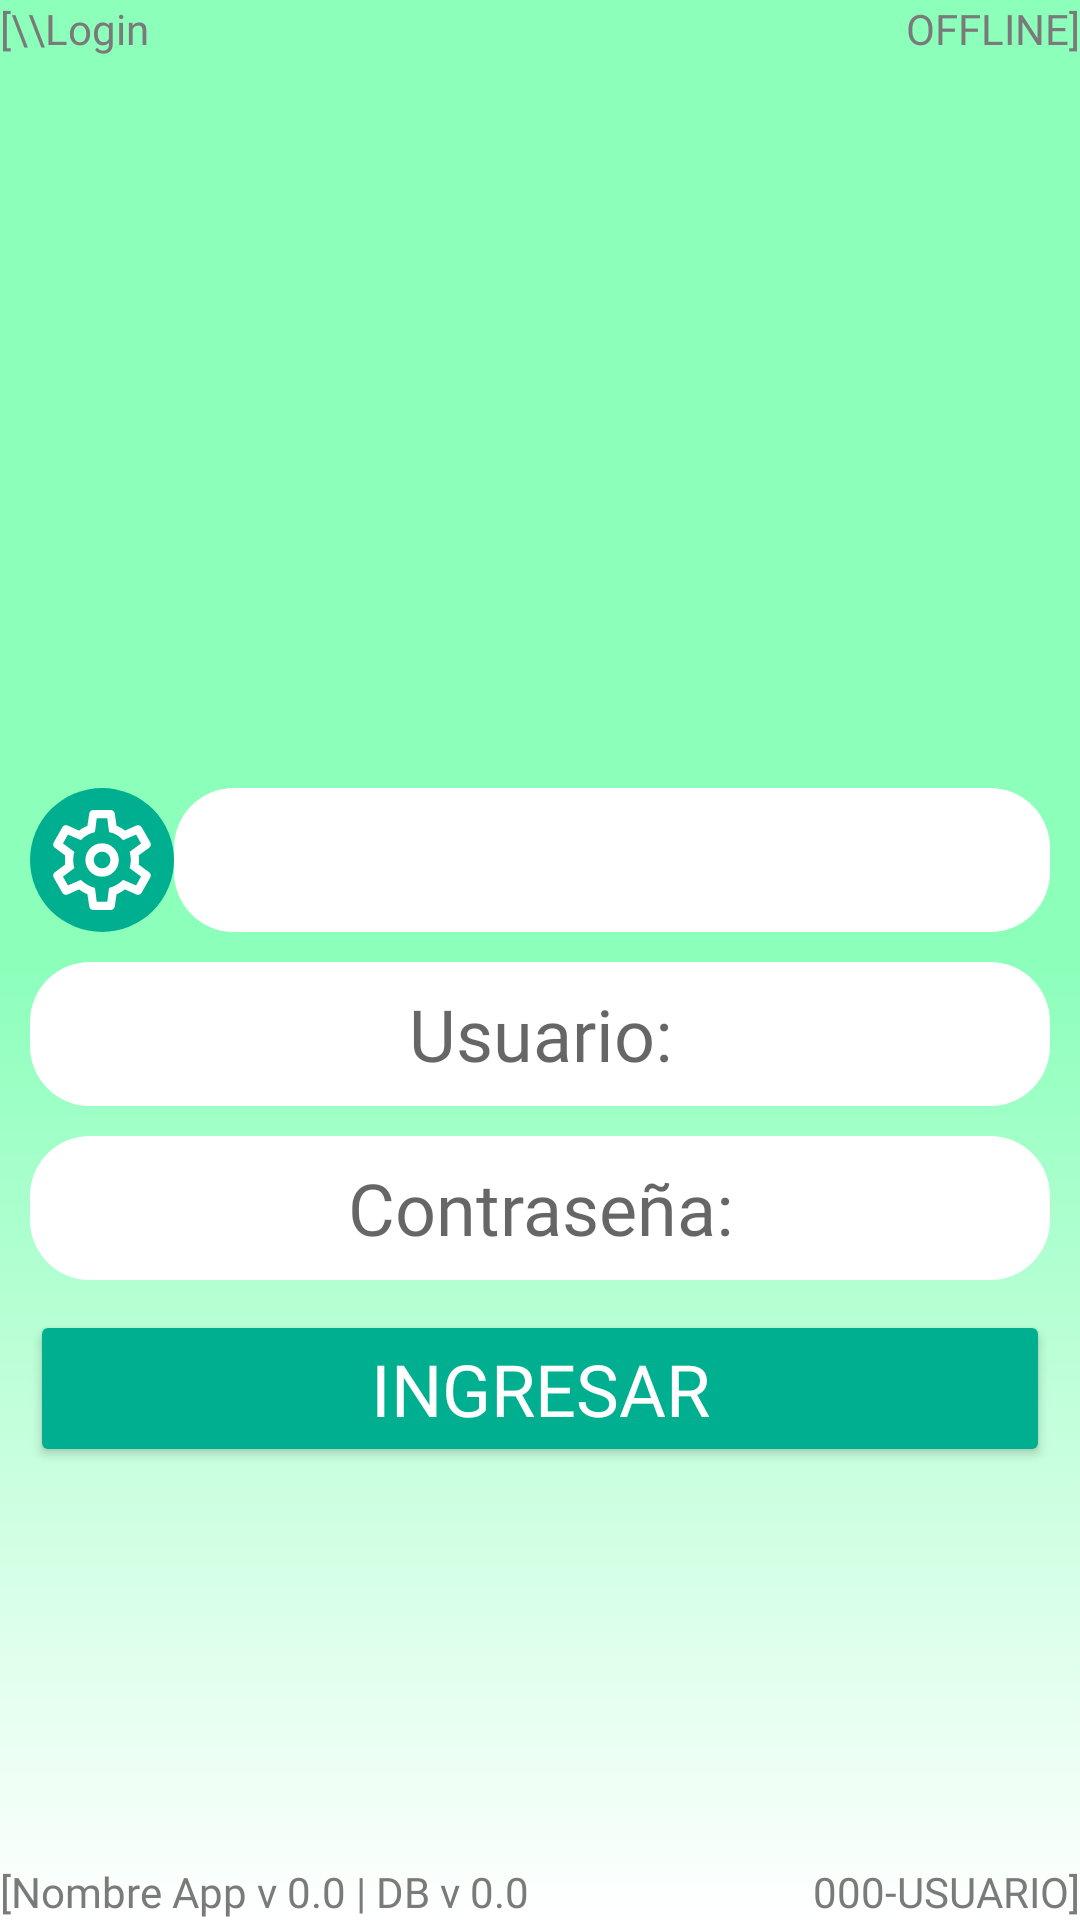

Icon click points for this 1080×1920 phone screenshot, format (x=x, y=y):
Configuracion: (x=102, y=860)
